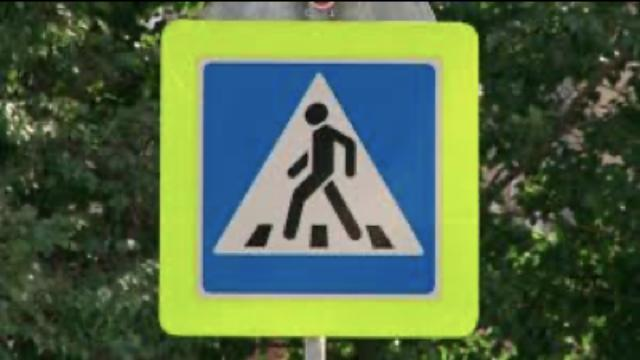crosswalk-sign: (158, 19, 481, 340)
